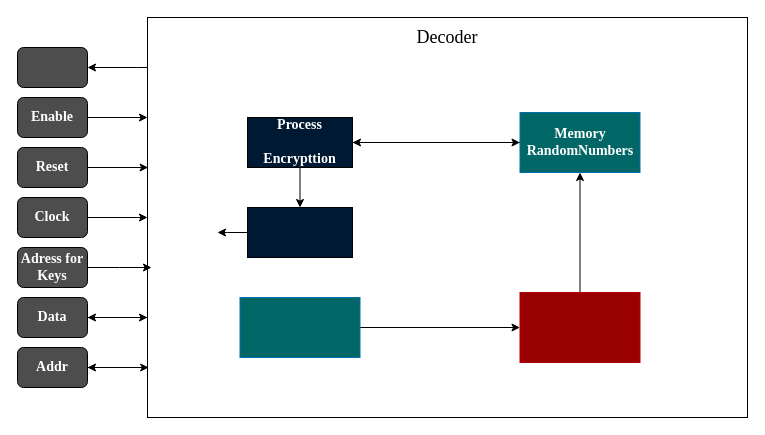
This 765x435 diagram has some shape labels left out. The centre of each missing label's shape, as x and y in pixels:
LEDS: [52,67]
Memory Keys: [299,327]
Process Output: [299,232]
Random-Number- Generator: [579,327]
